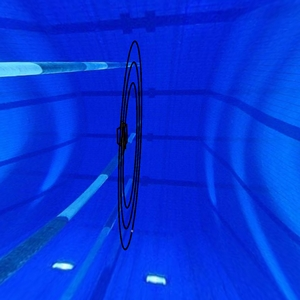circle: (110, 39, 147, 254)
submarine: (113, 122, 133, 151)
